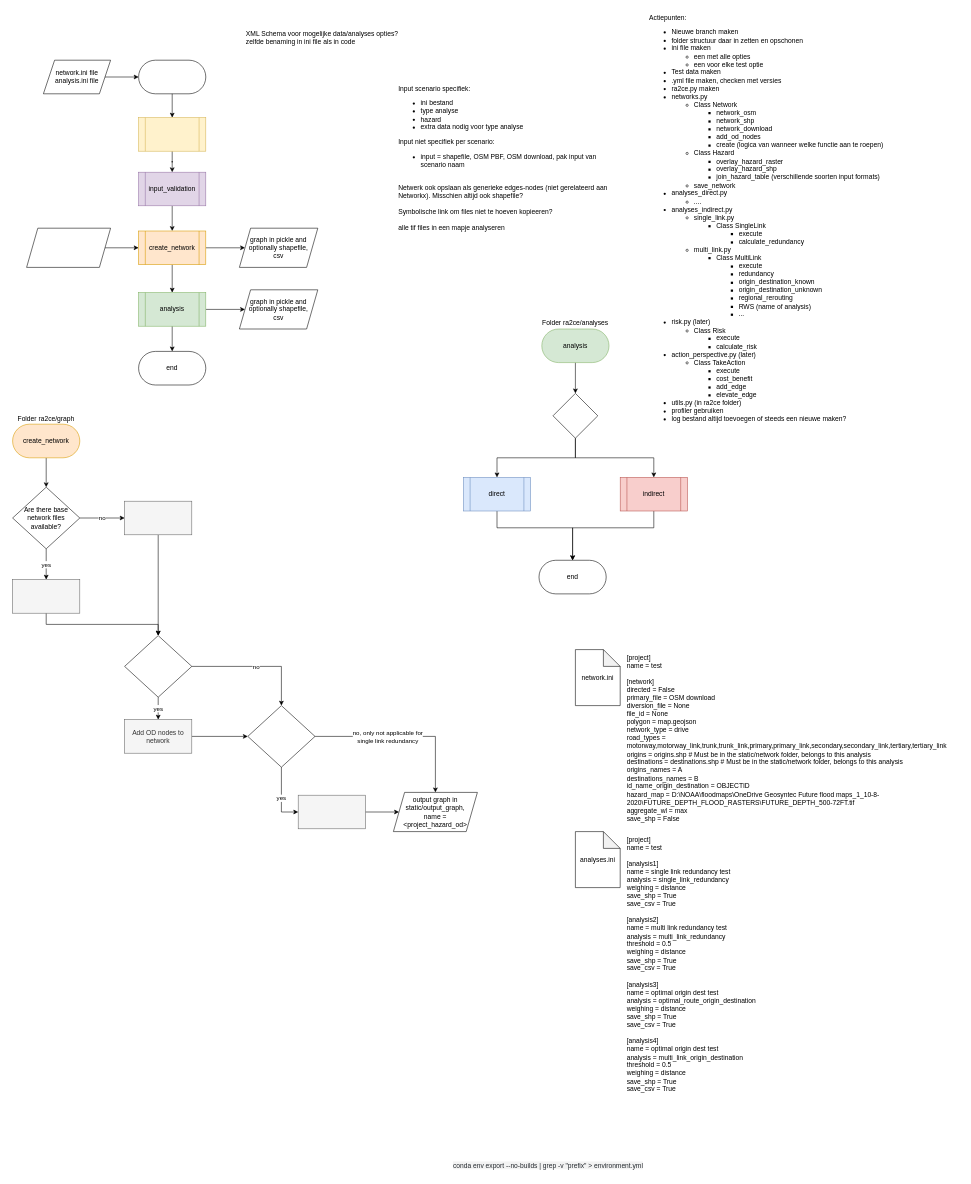
Some shapes in this 971 by 1184 pixel diagram are drawn without their labels. The centre of each missing label's shape, as x and y in pixels:
"Add hazard data to network" belongs at pixel 331 812.
"Add OD nodes?" belongs at pixel 158 666.
"Create network from OSM/shp/download" belongs at pixel 158 518.
"Grab graph pickle" belongs at pixel 46 596.
"Hazard overlay?" belongs at pixel 281 736.
"ra2ce.py" belongs at pixel 172 77.
"read_settings" belongs at pixel 172 134.
"Shapefile / polygon region / PBF file / from earlier network" belongs at pixel 68 247.
"Which analysis?" belongs at pixel 575 415.
